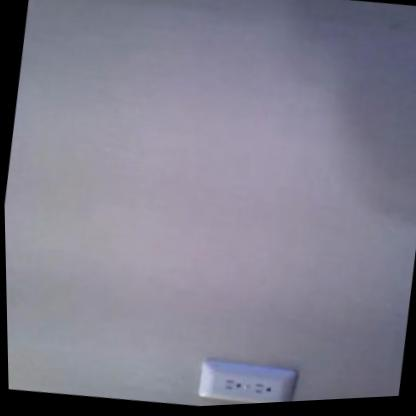OUTLET: (194, 354, 299, 406)
